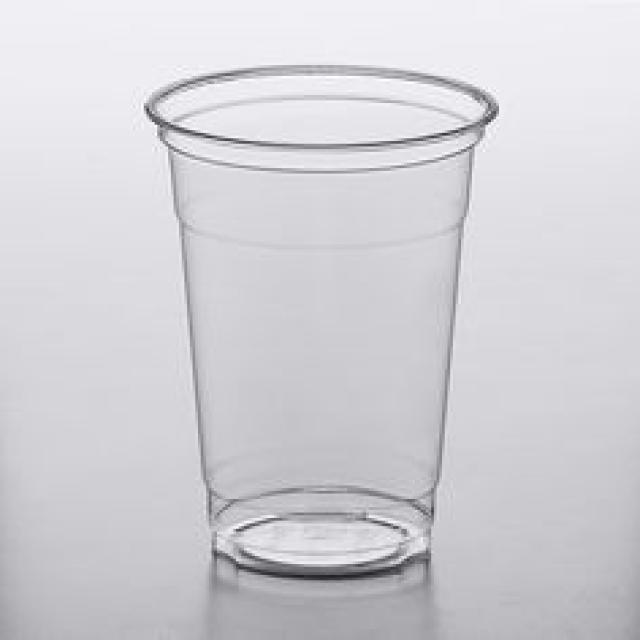bottle: (145, 66, 498, 592)
